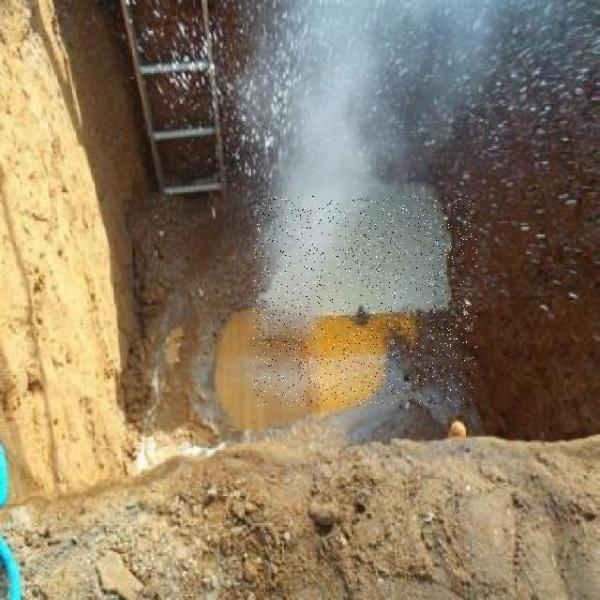pipe burst: (248, 0, 452, 321)
